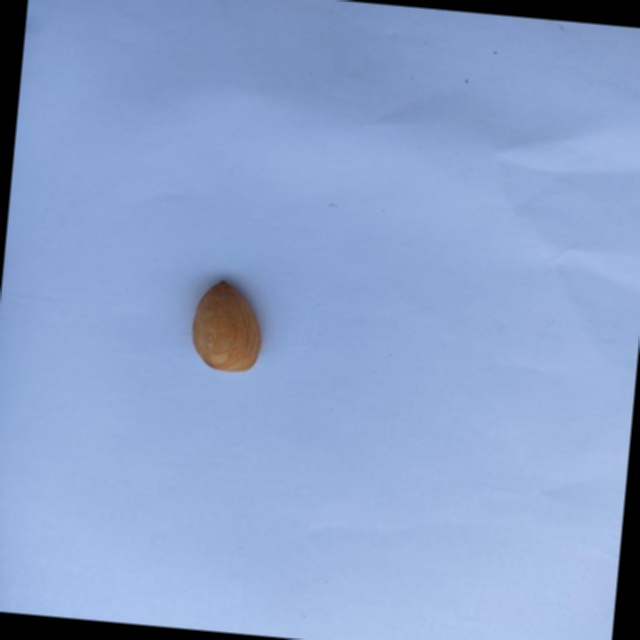grade2: (185, 275, 274, 378)
